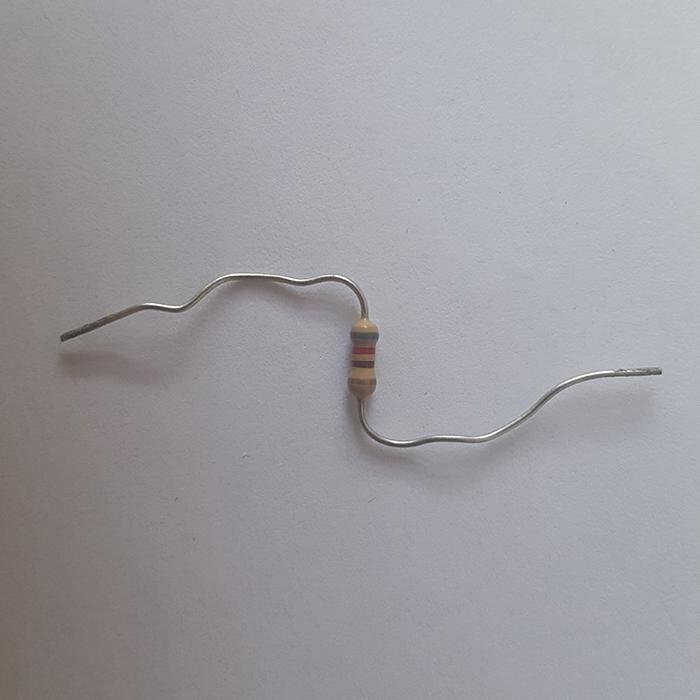resistor: (348, 317, 379, 401)
